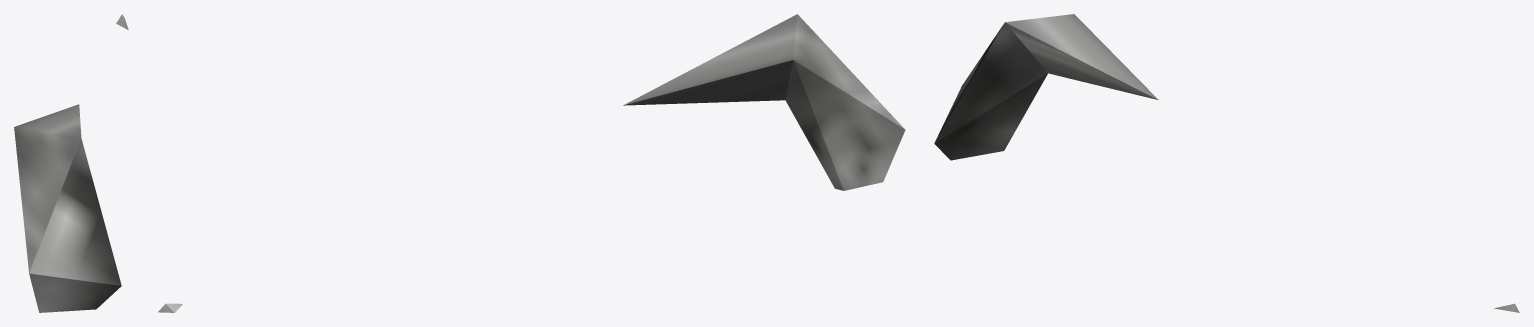
3 renders of one model, left to right at view 1: azimuth 30°, elevation 25°; view 2: azimuth 150°, elevation 25°; view 3: azimuth 270°, elevation 25°, orthographic. The views are drawn at different scales.
Size of the model in its own units: 0.1099 by 0.0408 by 0.1497.
1 material, 1 textured.
